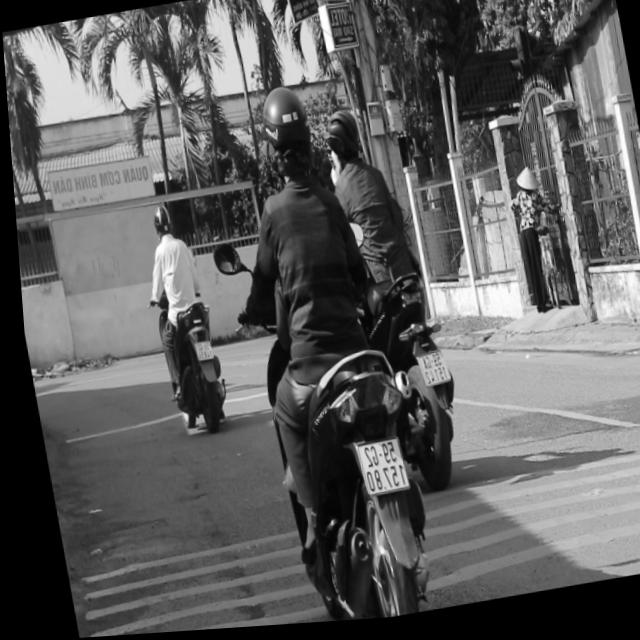helmet: (253, 83, 320, 192), (322, 110, 363, 165), (147, 204, 172, 239)
licenseplate: (197, 69, 441, 630), (321, 94, 465, 503), (132, 196, 228, 437)
nohelmet: (349, 441, 400, 498), (412, 353, 445, 392), (189, 342, 208, 363)
